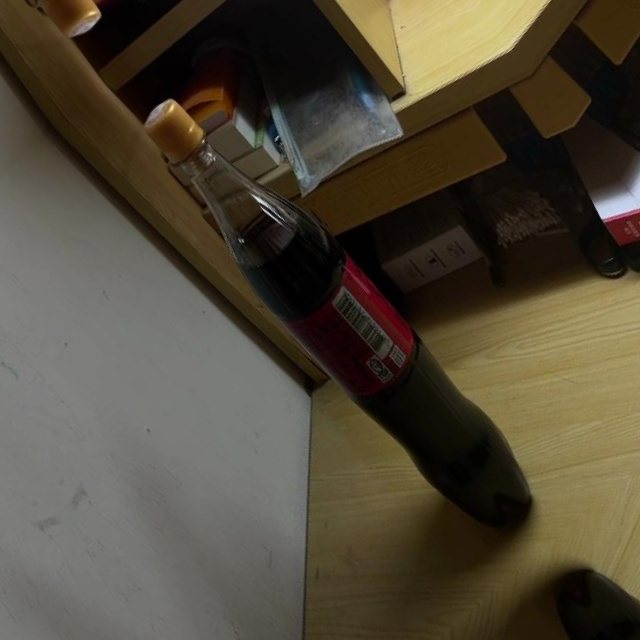Coca-Cola: (120, 70, 552, 557)
